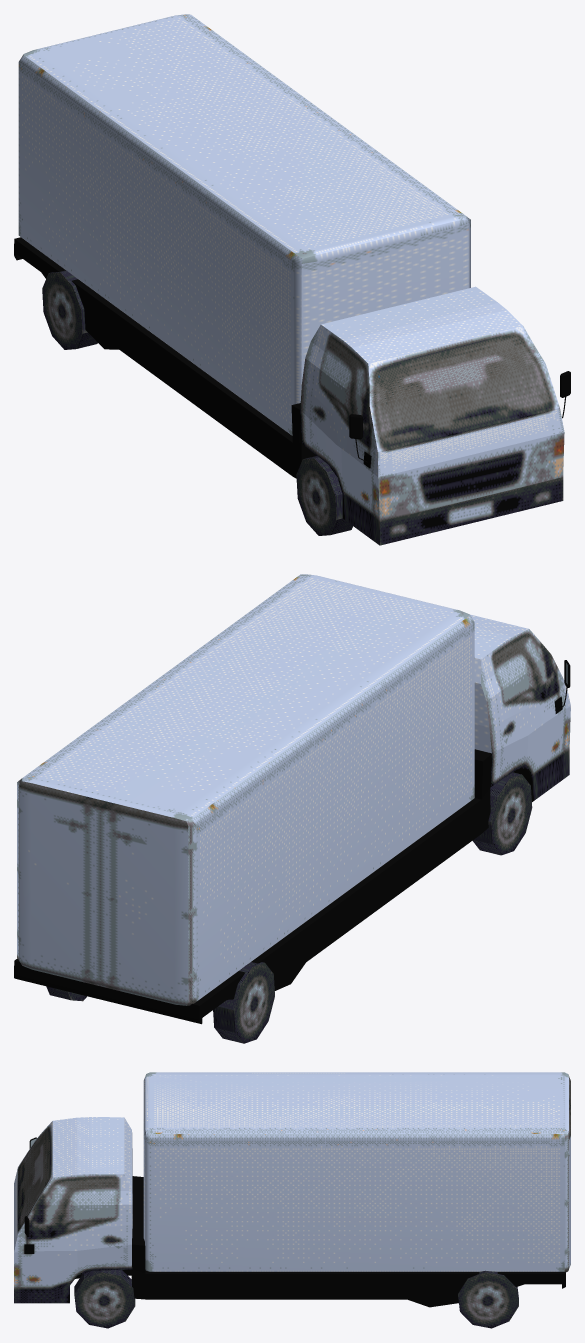
File: cargo.glb
The picture shows the model from 3 angles, top to bottom: view 1: azimuth 30°, elevation 25°; view 2: azimuth 150°, elevation 25°; view 3: azimuth 270°, elevation 25°; orthographic projection. The views are drawn at different scales.
Parts seen in each view (by area): view 1: pCube15; view 2: pCube15; view 3: pCube15.
Boxes of the visible parts, x1,y1,x2,y2 form: pCube15: (14,14,570,545); pCube15: (14,574,570,1043); pCube15: (14,1072,570,1328).
Bounding box in the file's own units: 2.43 × 2.75 × 7.2.
2 materials, 1 textured.
